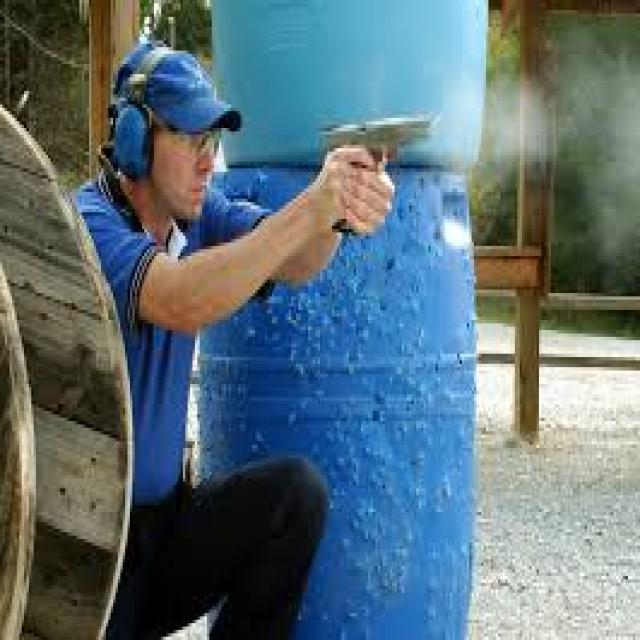weapons: (296, 54, 448, 234)
